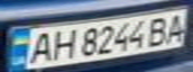2: (97, 21, 118, 55)
4: (127, 16, 151, 51), (112, 19, 136, 52)
8: (75, 24, 103, 57)
A: (21, 29, 57, 65), (160, 10, 190, 44)
B: (142, 14, 175, 47)
H: (45, 26, 78, 61)
